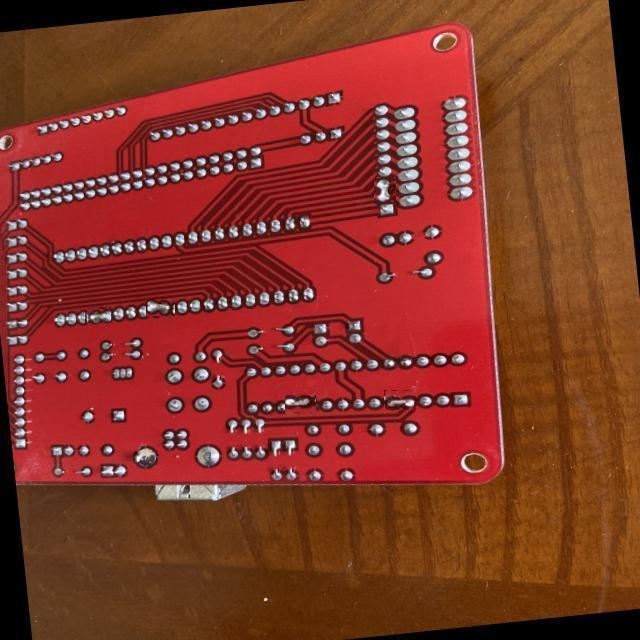damged: (373, 177, 396, 204), (384, 390, 414, 410), (286, 396, 318, 414), (146, 300, 175, 318), (85, 308, 112, 324)
